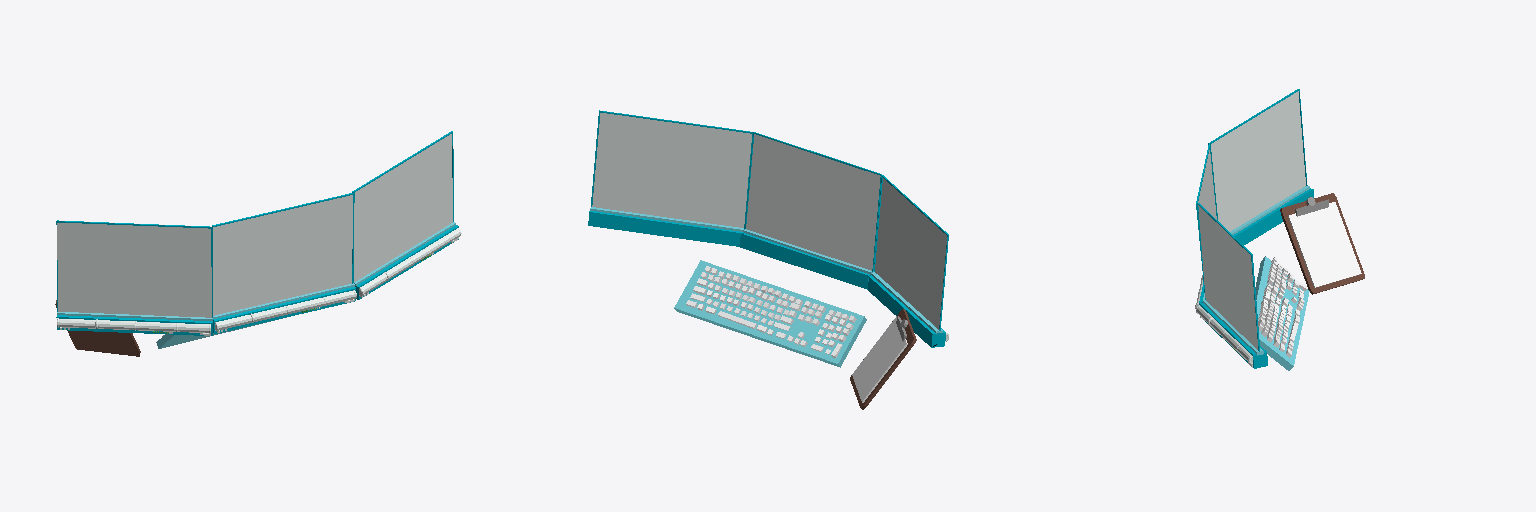
3 renders of one model, left to right at view 1: azimuth 30°, elevation 25°; view 2: azimuth 150°, elevation 25°; view 3: azimuth 270°, elevation 25°, orthographic.
Visible parts, largest first — view 1: group[number redacted], group[number redacted], group[number redacted], group[number redacted]; view 2: group[number redacted], group[number redacted], group[number redacted], group[number redacted], group[number redacted], group[number redacted]; view 3: group[number redacted], group[number redacted], group[number redacted], group[number redacted], group[number redacted], group[number redacted].
Boxes of the visible parts, x1,y1,x2,y2 form: group[number redacted]: [56, 220, 212, 335]; group[number redacted]: [212, 193, 356, 333]; group[number redacted]: [352, 131, 461, 299]; group[number redacted]: [55, 300, 140, 356]; group[number redacted]: [588, 110, 752, 246]; group[number redacted]: [739, 132, 881, 289]; group[number redacted]: [868, 175, 948, 347]; group[number redacted]: [674, 260, 866, 367]; group[number redacted]: [852, 316, 907, 402]; group[number redacted]: [850, 309, 916, 409]; group[number redacted]: [1208, 89, 1313, 245]; group[number redacted]: [1196, 203, 1267, 368]; group[number redacted]: [1288, 202, 1361, 287]; group[number redacted]: [1255, 256, 1309, 370]; group[number redacted]: [1280, 193, 1364, 294]; group[number redacted]: [1195, 142, 1217, 308].
Bounding box in the file's own units: 1.76 × 0.8023 × 0.6818.